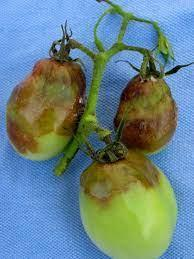tomato late blight: (79, 148, 179, 259), (7, 44, 89, 163), (115, 73, 179, 156)
